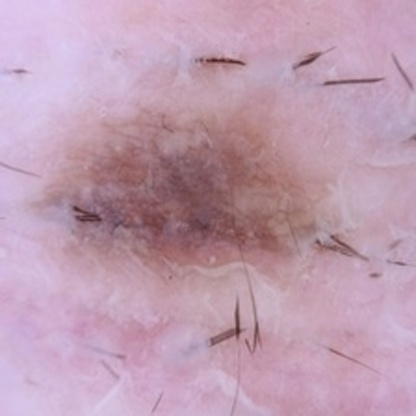benign: (50, 109, 310, 268)
